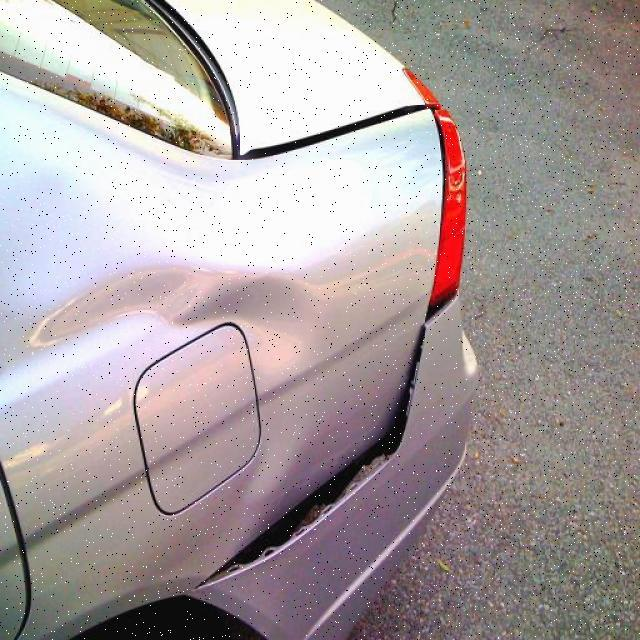car damage: (195, 324, 426, 586), (35, 262, 321, 370)
